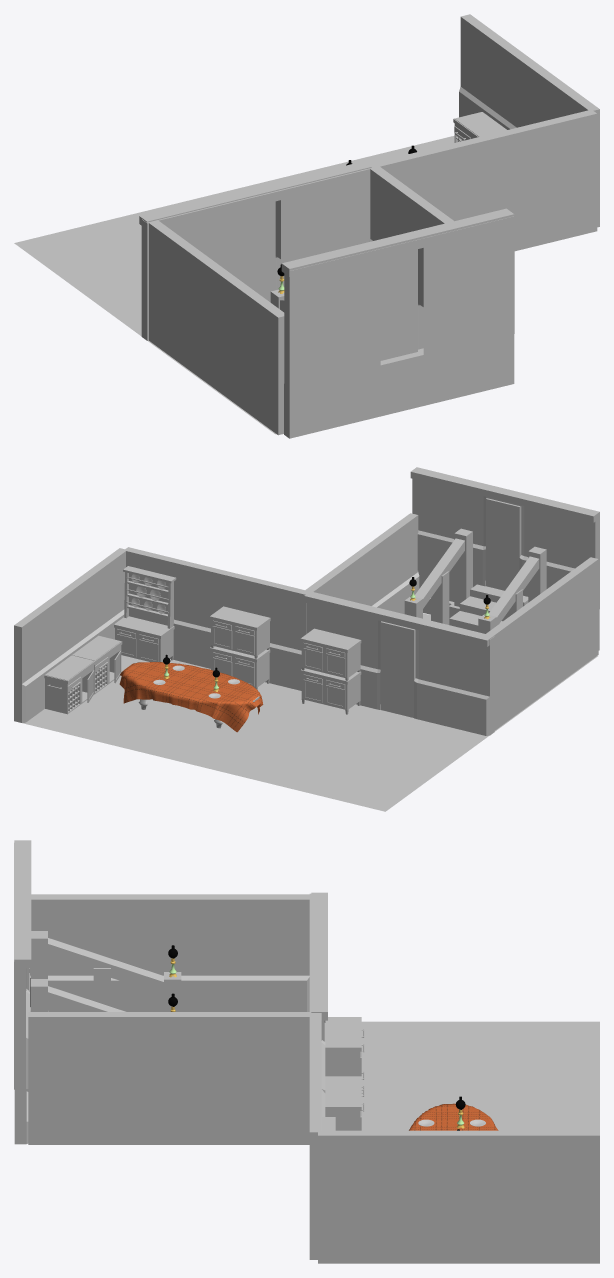
File: Piece2.fbx
3 views of the same model, one above another, from view 1: azimuth 30°, elevation 25°; view 2: azimuth 150°, elevation 25°; view 3: azimuth 270°, elevation 25° (orthographic). The views are drawn at different scales.
Visible parts, largest first — view 1: Mur005, Mur002, Mur007, Mur008, Mur003, Mur001, Plane004, Box030, Mur006, Box007, Box031, Box016 (+2 smaller); view 2: Plane004, Mur007, Mur002, Mur003, Plane003, Mur005, Mur001, Box023, Mur006, Nappe, Box008, Box007 (+9 smaller); view 3: Mur001, Mur006, Mur007, Plane004, Box023, Mur002, Box014, Box031, Box016, Mur005, Box012, Nappe (+2 smaller).
Boxes of the visible parts, x1,y1,x2,y2 form: Mur005: (284,216,514,388); Mur002: (368,110,597,251); Mur007: (149,220,284,435); Mur008: (284,334,514,438); Mur003: (141,168,371,340); Mur001: (459,14,599,227); Plane004: (14,188,241,336); Box030: (380,249,417,360); Mur006: (369,166,453,241); Box007: (238,201,275,302); Box031: (281,208,514,276); Box016: (139,161,371,225); Plane004: (202,695,488,811); Mur007: (486,557,598,730); Mur002: (125,547,309,690); Mur003: (307,603,494,735); Plane003: (22,655,301,766); Mur005: (412,478,599,609); Mur001: (14,548,126,722); Box023: (404,528,546,633); Mur006: (305,513,419,613); Nappe: (119,662,263,732); Box008: (114,566,176,662); Box007: (380,621,415,717); Mur001: (318,1130,599,1263); Mur006: (28,1012,310,1144); Mur007: (29,894,310,1011); Plane004: (324,1021,599,1130); Box023: (26,931,181,1091); Mur002: (309,1013,325,1259); Box014: (325,1017,364,1076); Box031: (14,840,31,968); Box016: (311,892,327,1020); Mur005: (14,843,29,1089); Box012: (325,1076,364,1130); Nappe: (409,1103,498,1130).
Bounding box in the file's own units: 320 × 114 × 327.
